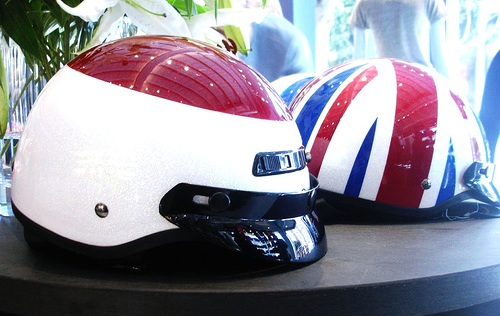helmet: (39, 41, 319, 256), (298, 65, 492, 201)
